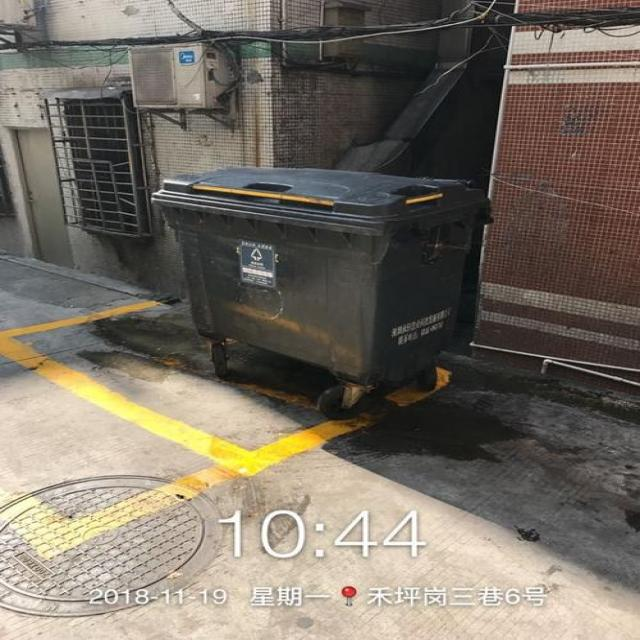garbage_bin: (151, 167, 486, 381)
